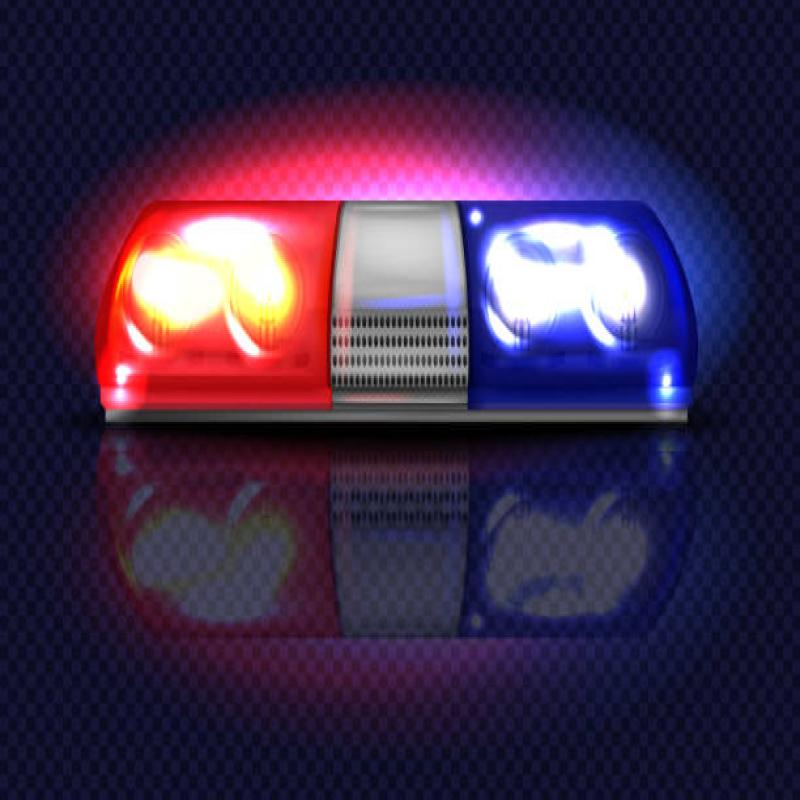AmbulanceSiren: (80, 166, 711, 478)
